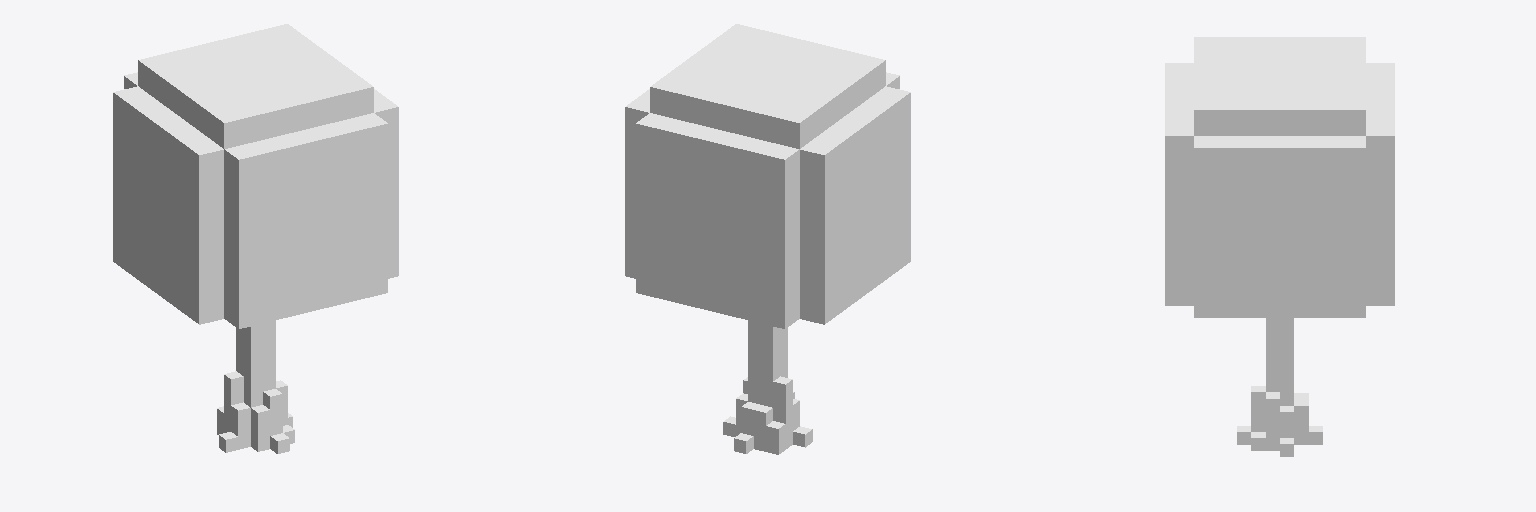
Rendered from resources-3.obj.
The picture shows the model from 3 angles: view 1: azimuth 30°, elevation 25°; view 2: azimuth 150°, elevation 25°; view 3: azimuth 270°, elevation 25°; orthographic projection.
Parts seen in each view (by area): view 1: object 1; view 2: object 1; view 3: object 1.
Part boxes in pixels (left/top/right/bottom): object 1: left=113, top=24, right=398, bottom=453; object 1: left=625, top=24, right=910, bottom=454; object 1: left=1165, top=37, right=1394, bottom=456.
Bounding box in the file's own units: 1.6 × 2.8 × 1.6.